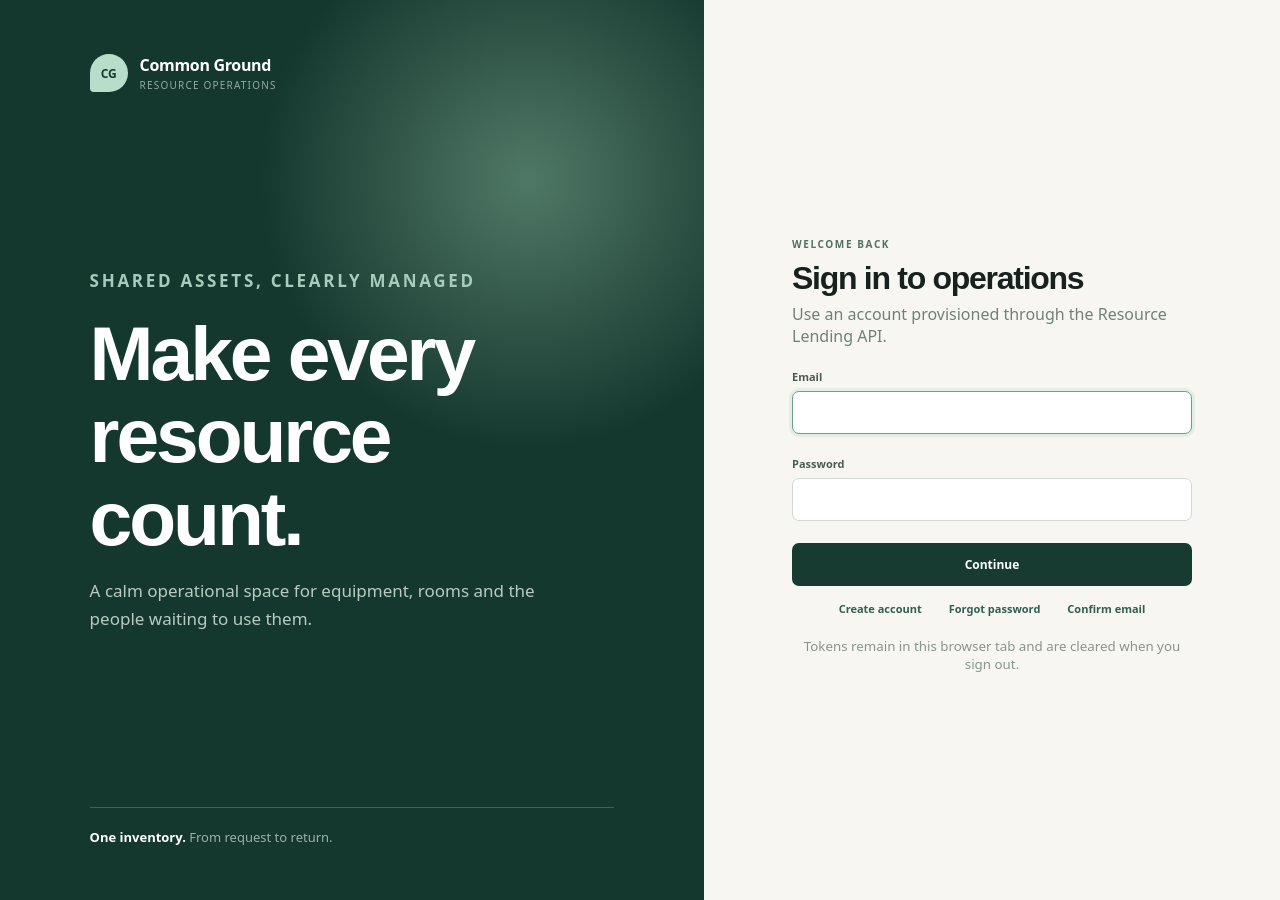
authentication journeys › creates an account and continues to one-time token confirmation
Click the button "Create account" at {"x": 880, "y": 609}, box [833, 600, 928, 617]
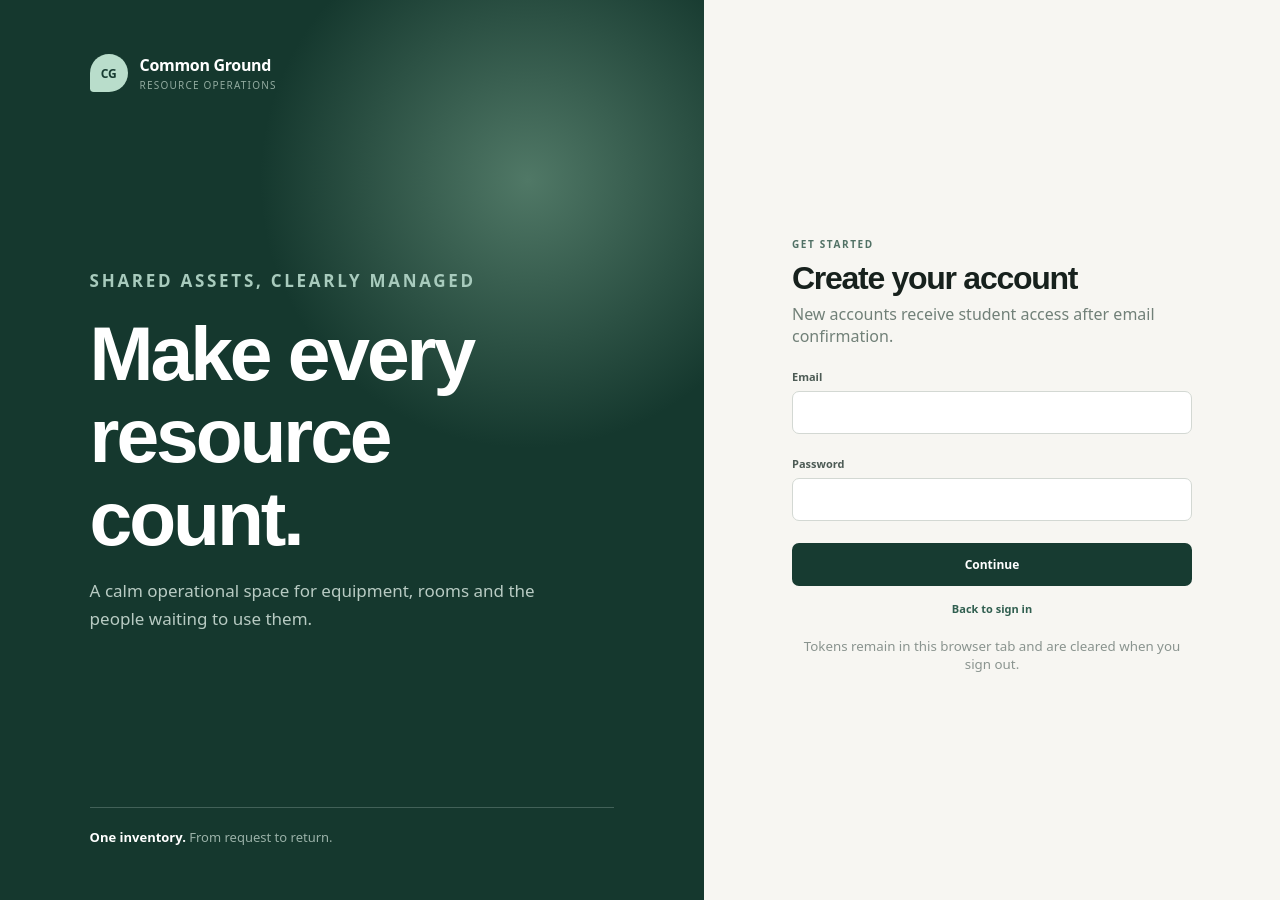
Type "new@example.com" into the field labelled "Email" at {"x": 992, "y": 413}, box [792, 391, 1192, 434]
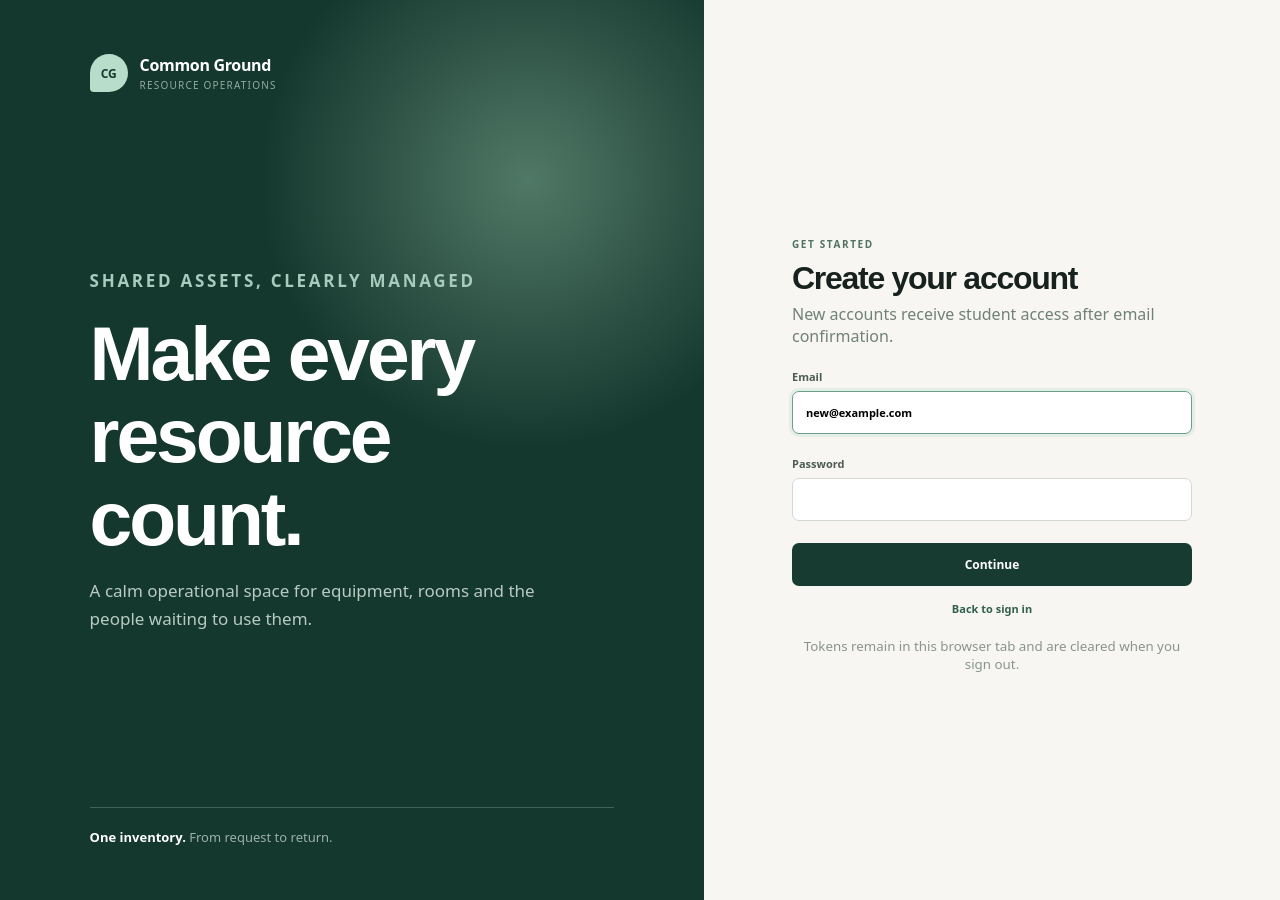
Type "StrongPass!2026" into the password field labelled "Password" at {"x": 992, "y": 500}, box [792, 478, 1192, 521]
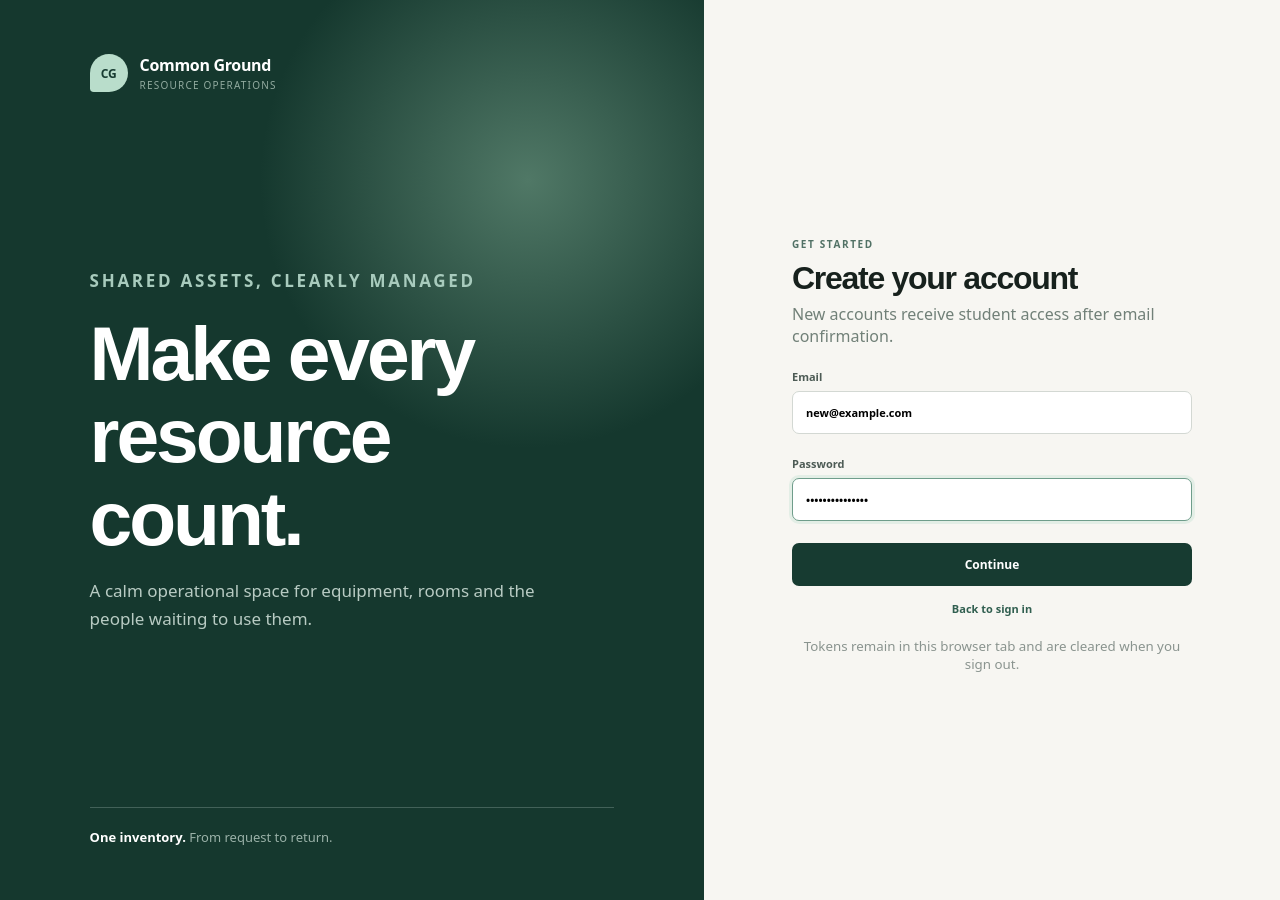
Click the button "Continue" at {"x": 992, "y": 565}, box [792, 543, 1192, 586]
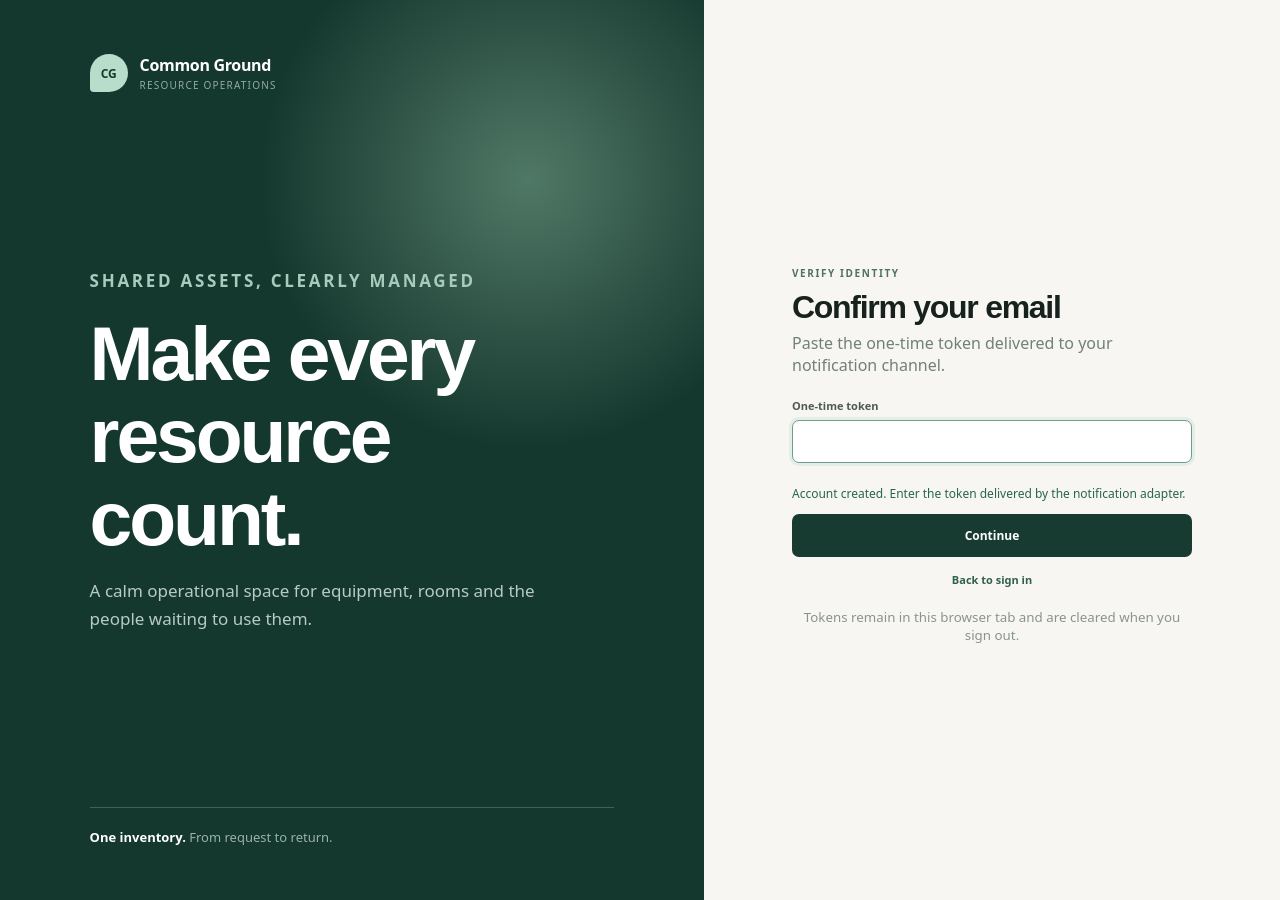
Check: the field labelled "One-time token" is shown, box [792, 420, 1192, 463]
Check: the message shows "Account created", box [792, 485, 1186, 502]
